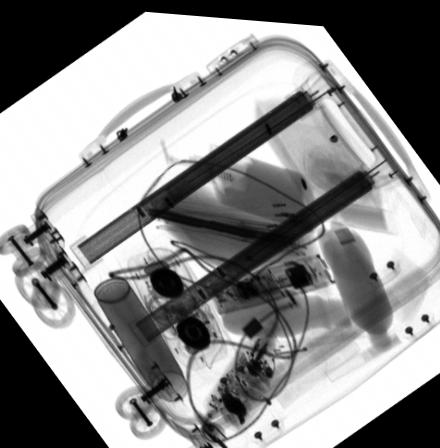Baton: (209, 248, 334, 306)
